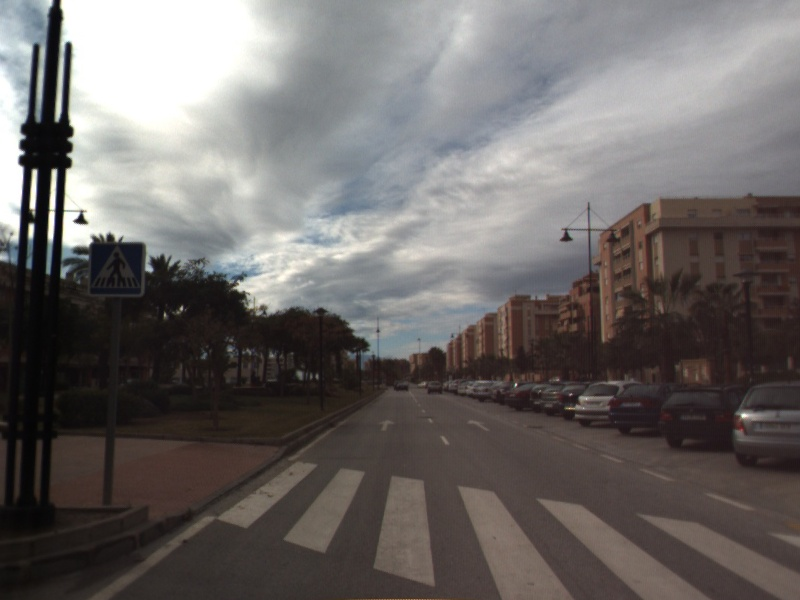STRAIGHT: (465, 418, 492, 433), (376, 417, 397, 432)
